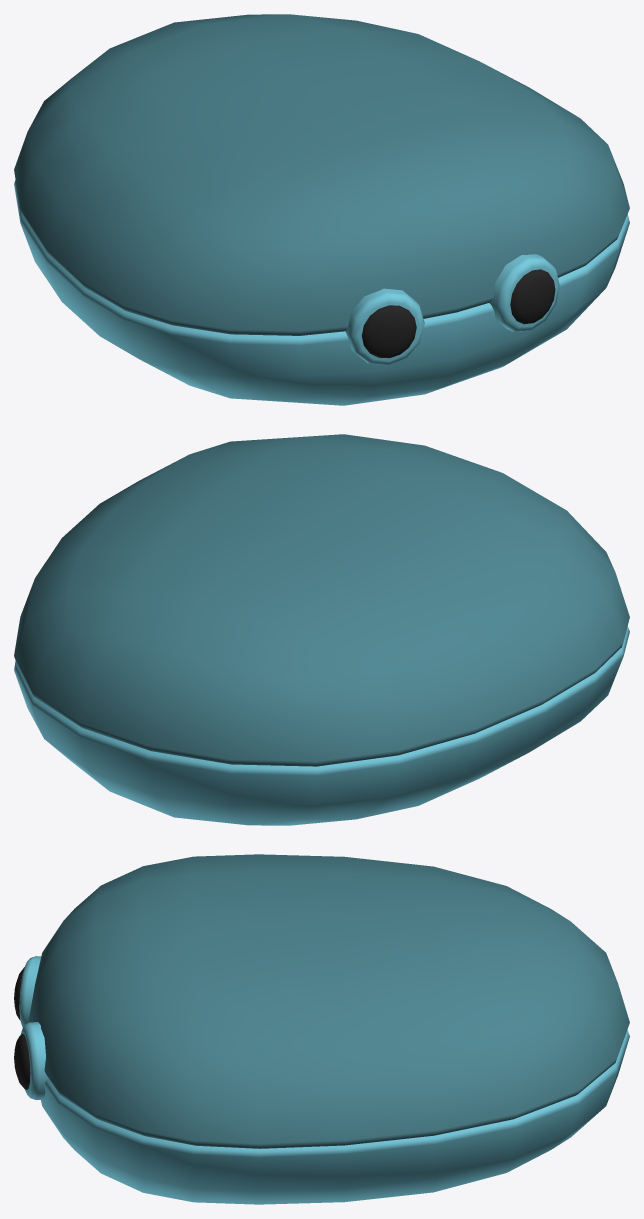
The model's file is Crab_2_Shell.fbx.
The picture shows the model from 3 angles, top to bottom: view 1: azimuth 30°, elevation 25°; view 2: azimuth 150°, elevation 25°; view 3: azimuth 270°, elevation 25°; orthographic projection. The views are drawn at different scales.
Parts seen in each view (by area): view 1: Crab_2_Shell; view 2: Crab_2_Shell; view 3: Crab_2_Shell.
Boxes of the visible parts, bbox=[...] form: Crab_2_Shell: bbox=[14, 14, 629, 405]; Crab_2_Shell: bbox=[14, 434, 629, 825]; Crab_2_Shell: bbox=[14, 854, 629, 1204].
Size of the model in its own units: 21.94 by 9.78 by 23.58.
